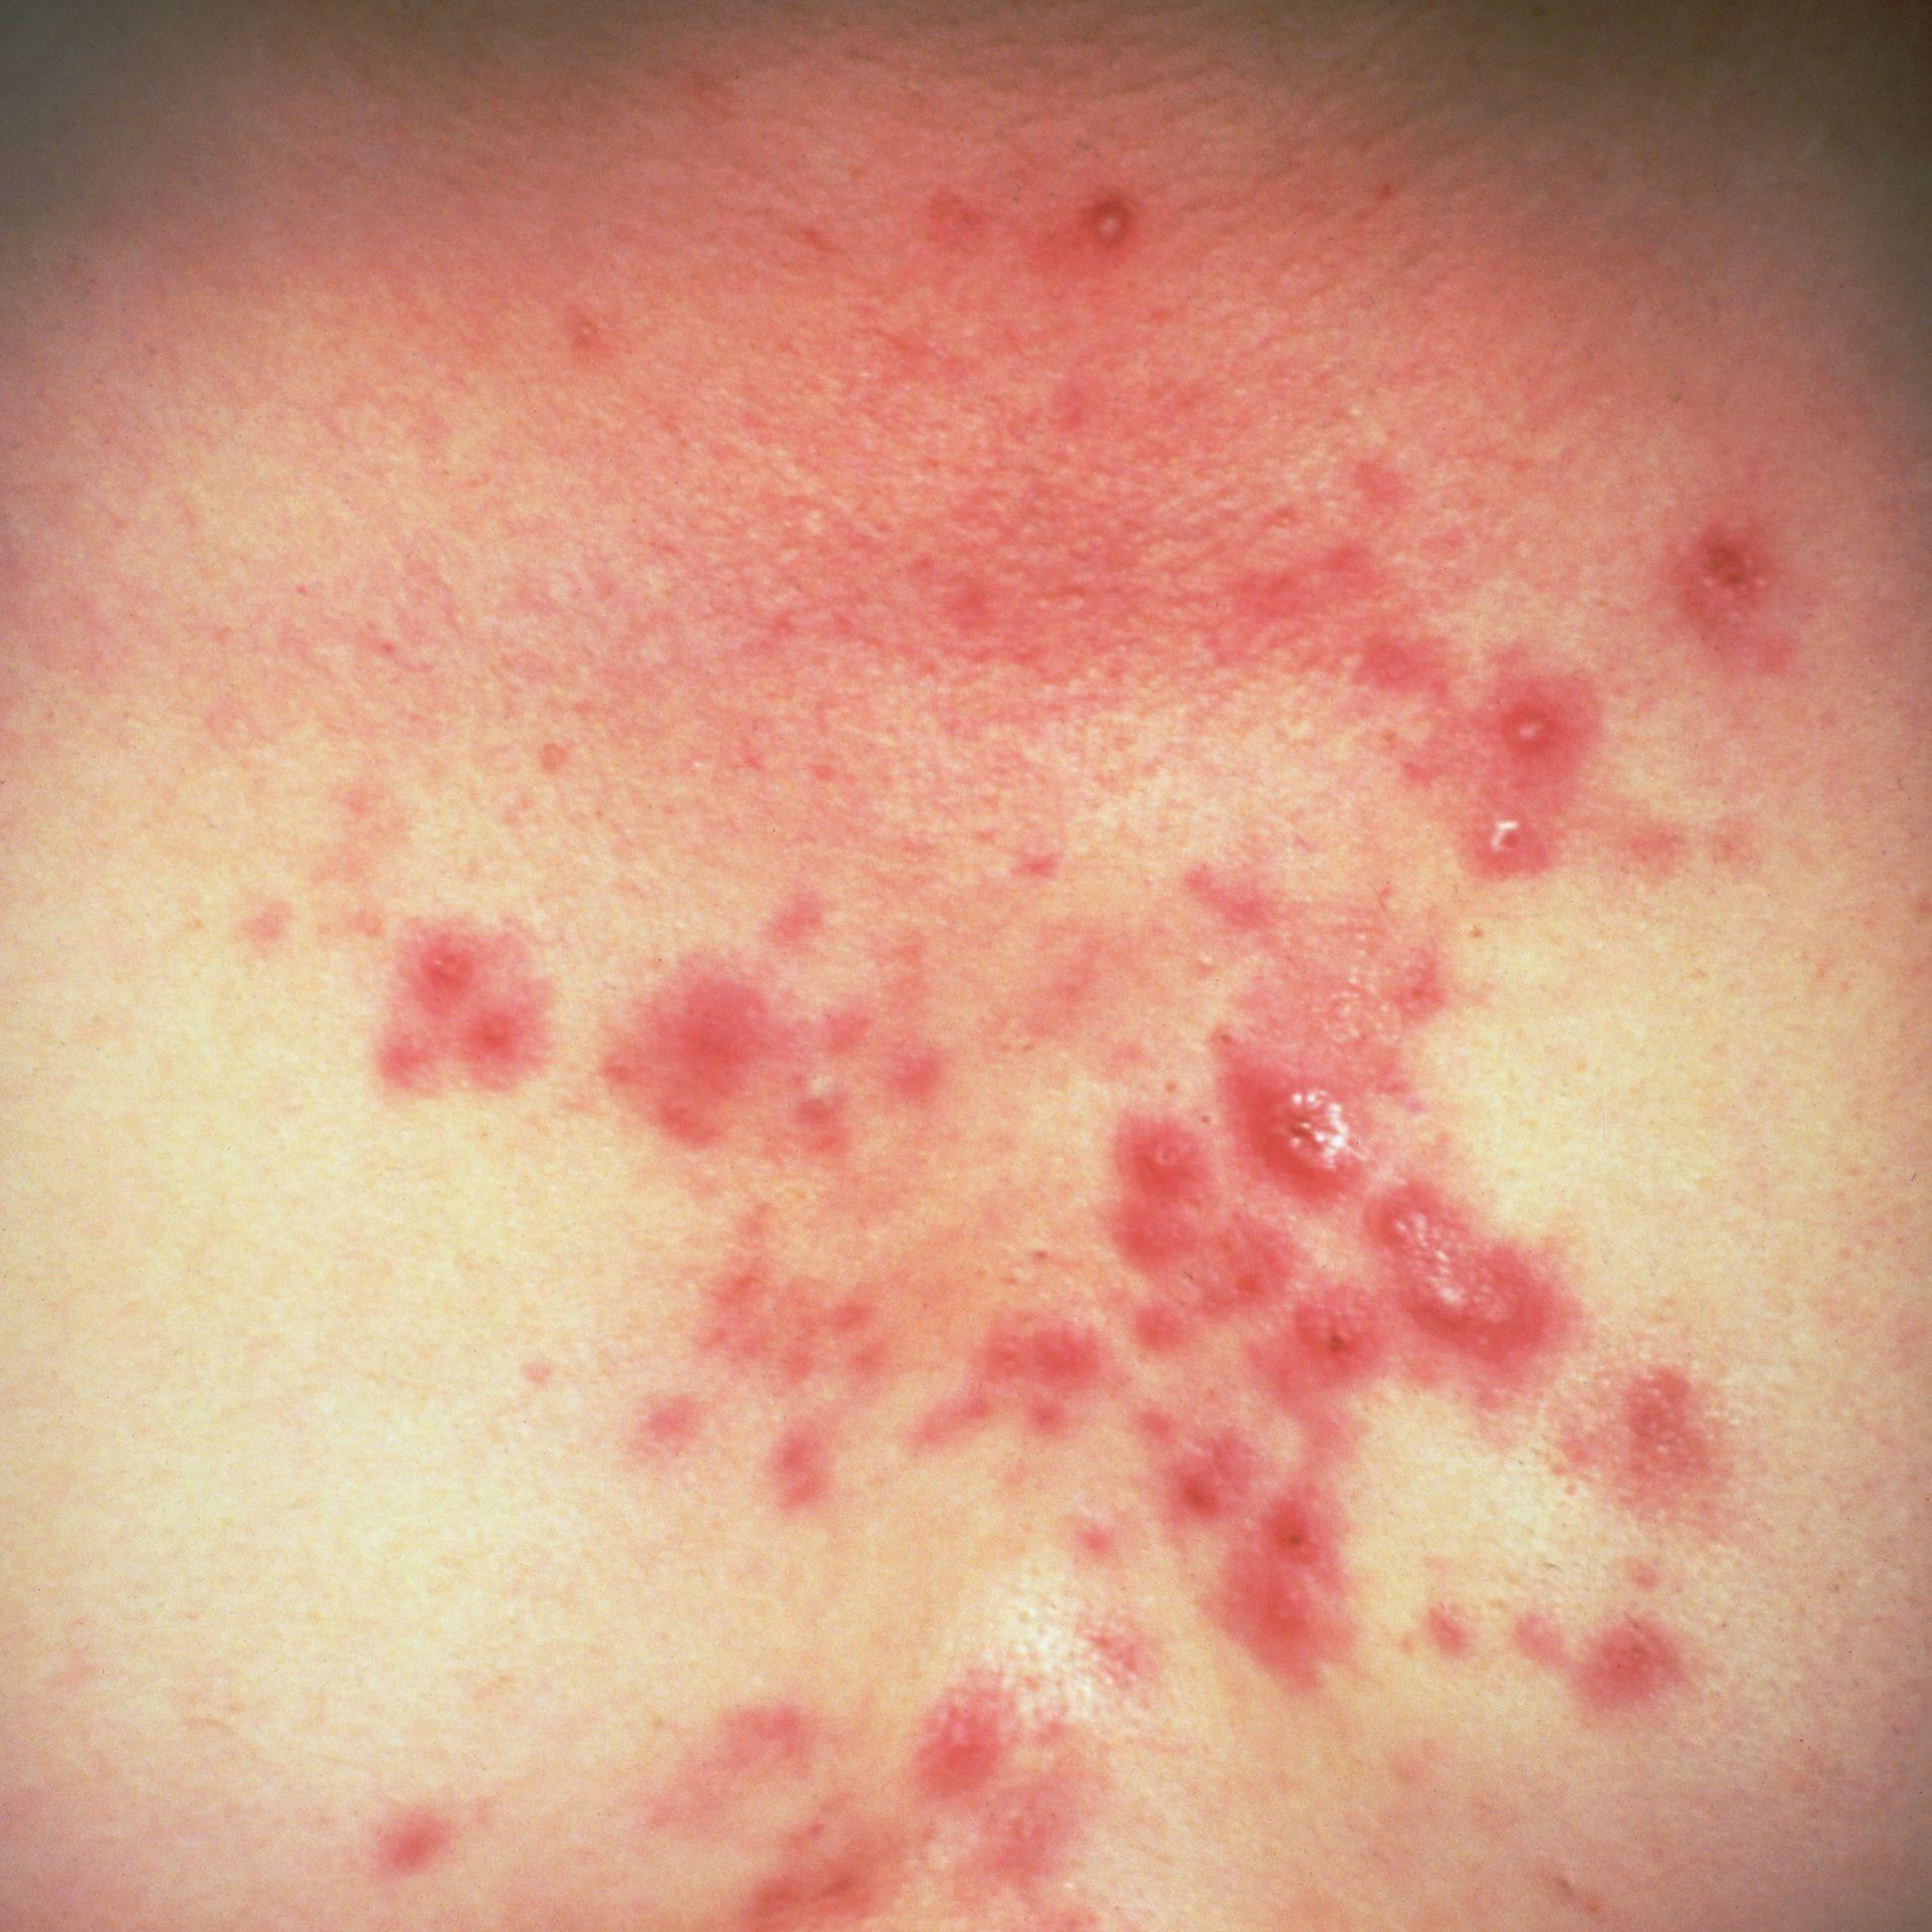acne_scars: (1688, 472, 1829, 678)
papular: (380, 920, 596, 1123), (1182, 1553, 1376, 1760), (1067, 1092, 1240, 1299), (892, 1681, 1033, 1813)
purulent: (1085, 163, 1191, 287), (761, 1056, 888, 1148), (1499, 674, 1583, 778)
sebo-crystan-conglo: (1407, 1192, 1601, 1373), (1261, 1088, 1407, 1180)
